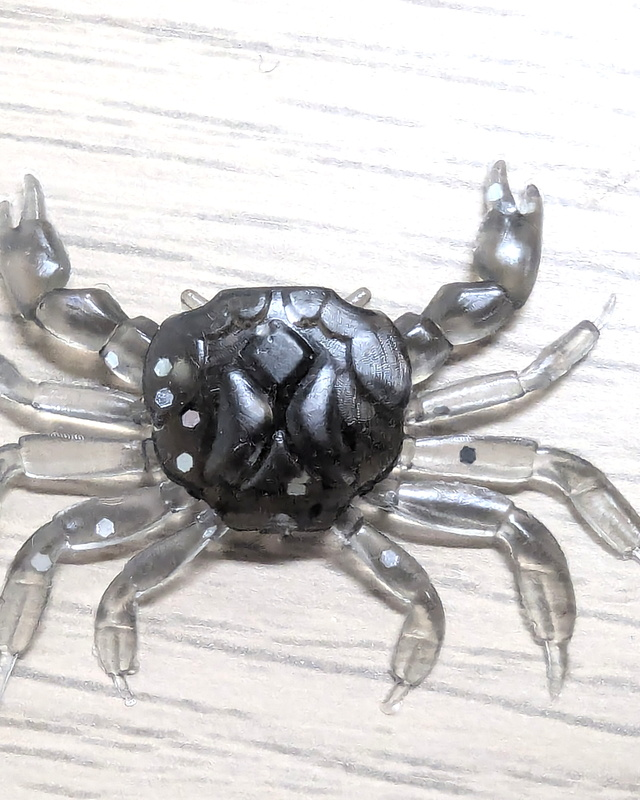crab1: (4, 160, 640, 703)
